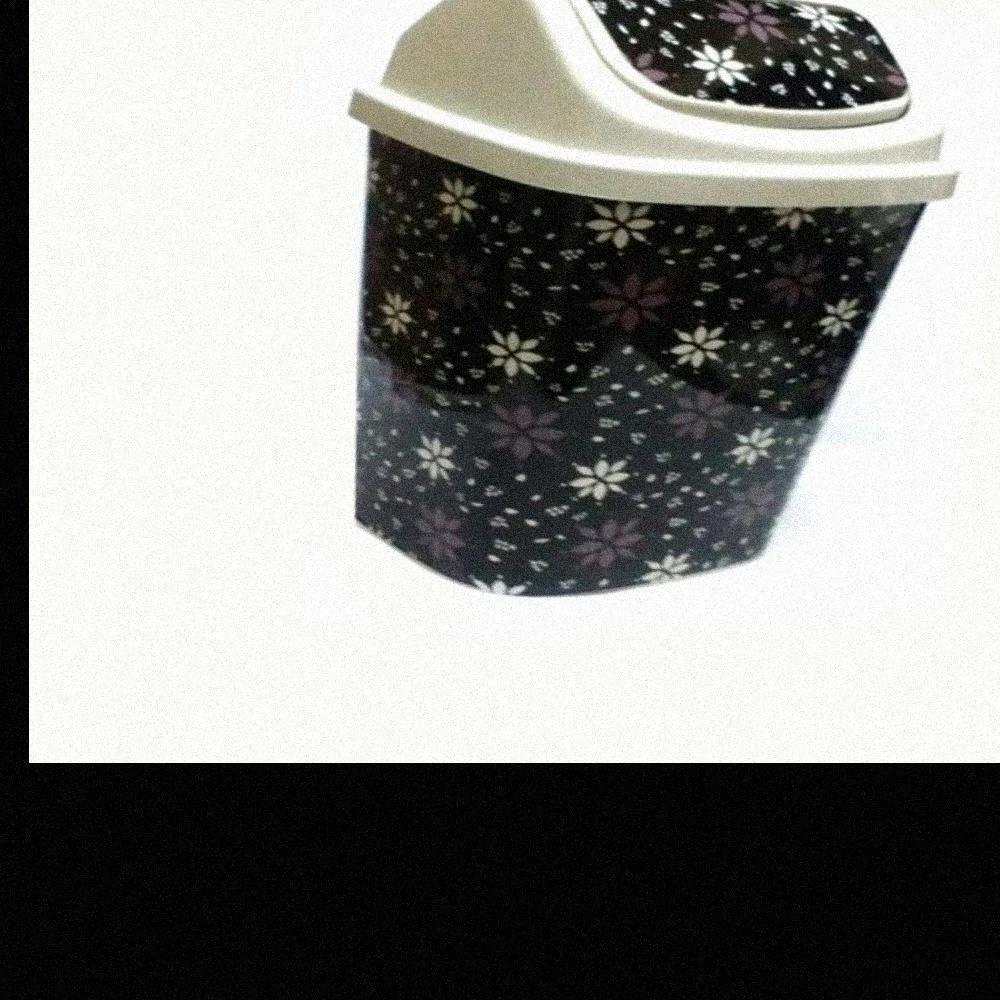Bote de Basura: (306, 0, 950, 596)
